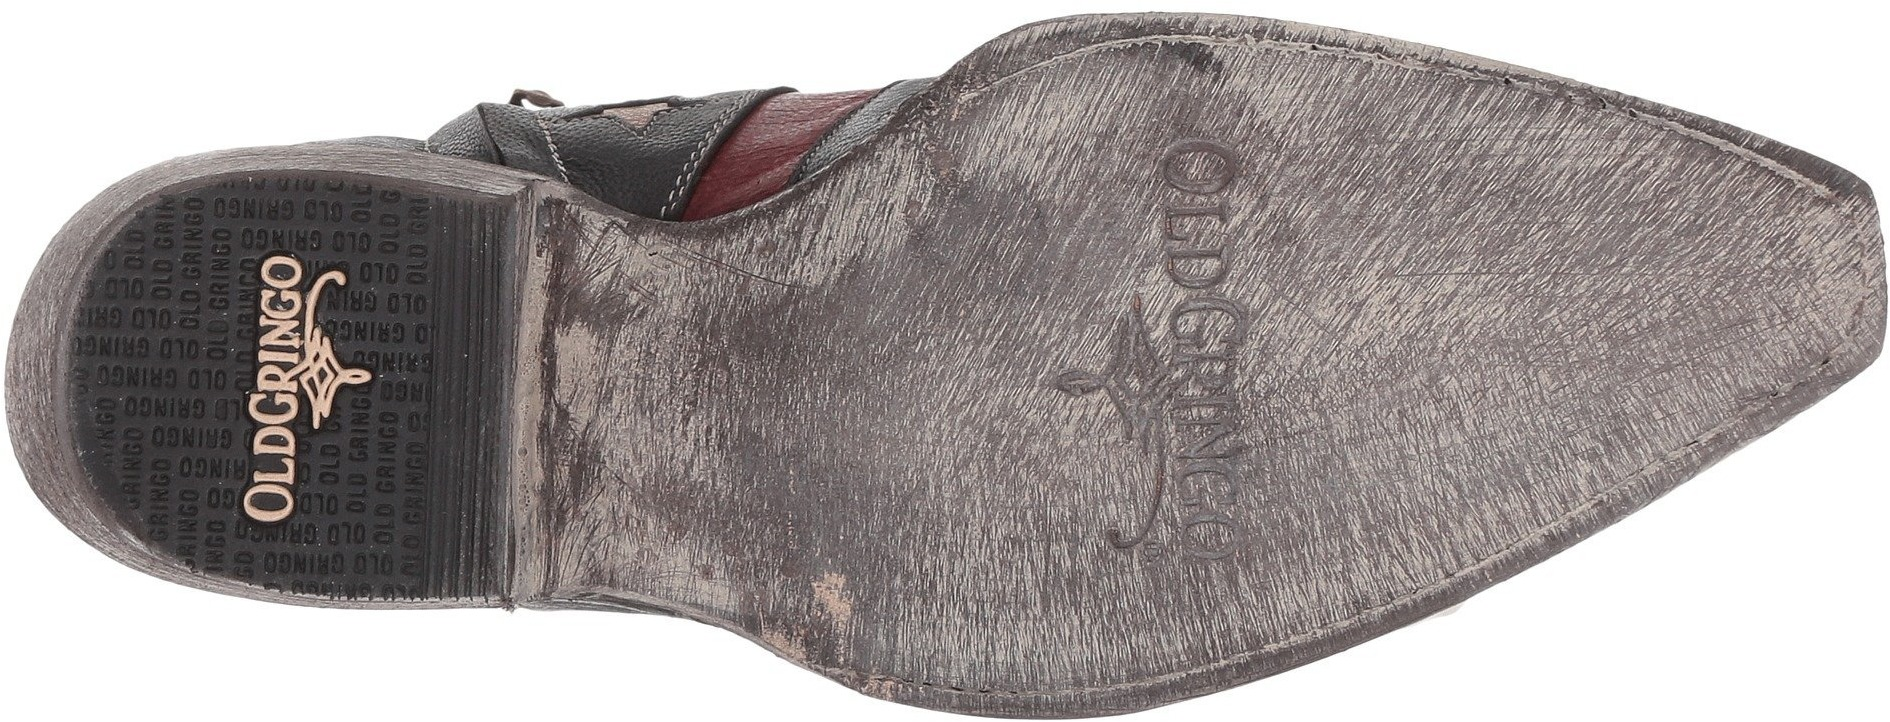text: (131, 228, 436, 505), (1143, 117, 1299, 303), (1154, 398, 1287, 562)
